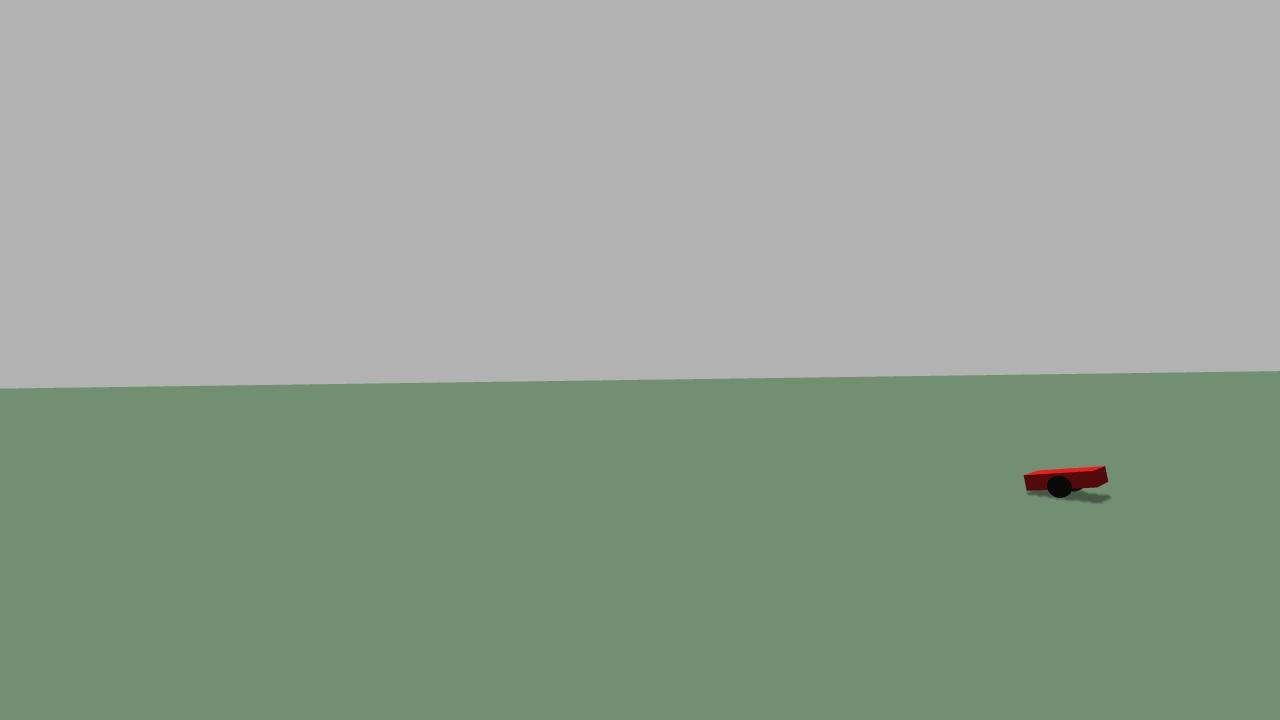ground_vehicle: (1018, 455, 1141, 515)
